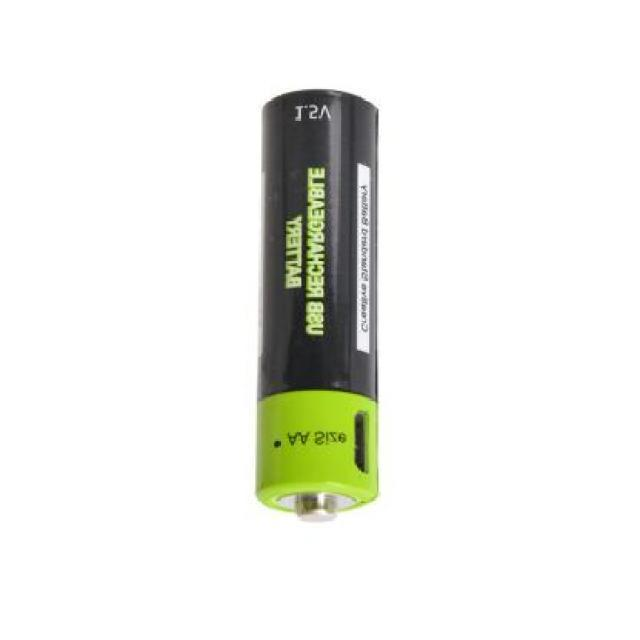hazardous waste: (256, 89, 384, 523)
